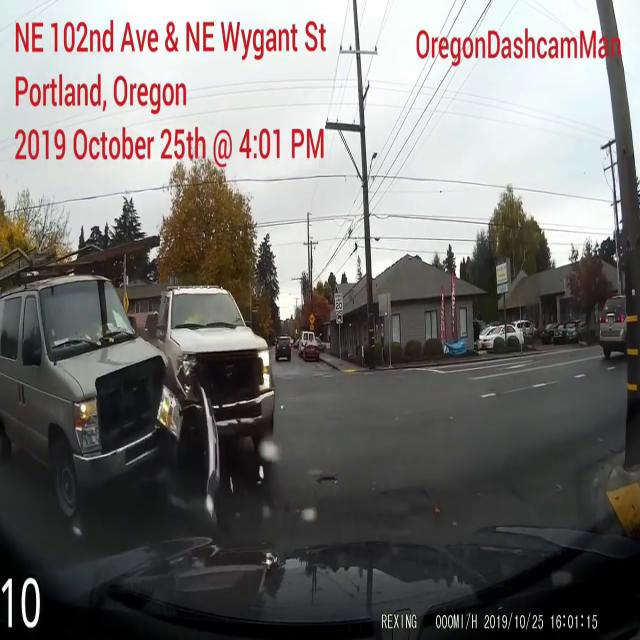accident: (36, 271, 281, 489)
